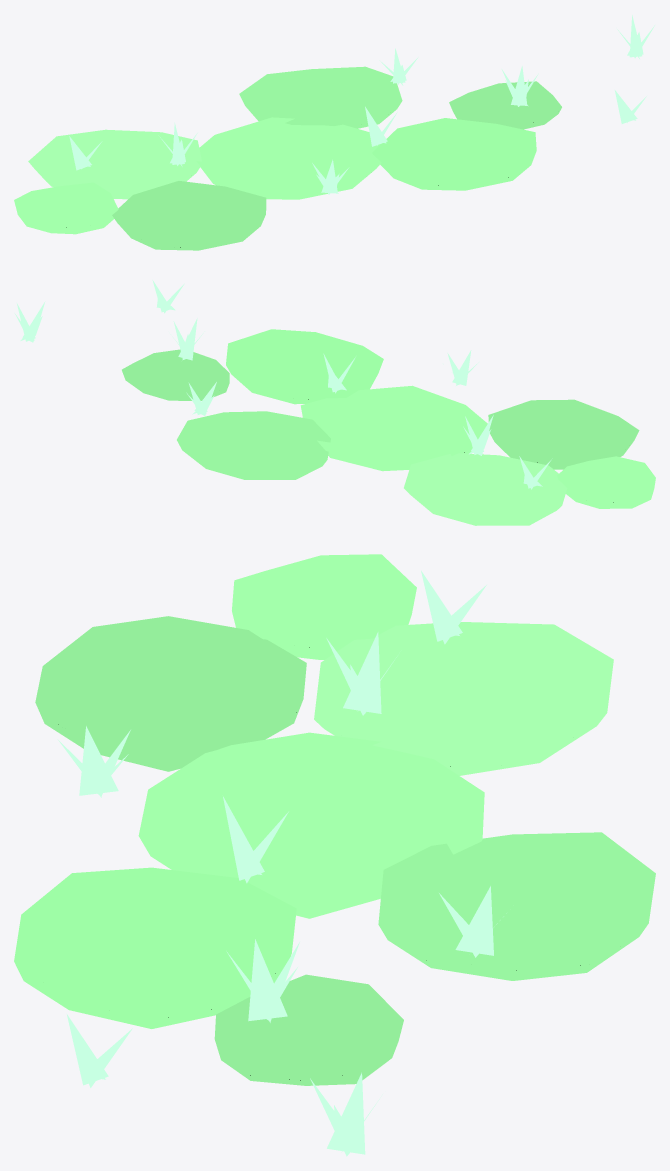
Rendered from terrain_resource_grove.gltf.
The picture shows the model from 3 angles, top to bottom: view 1: azimuth 30°, elevation 25°; view 2: azimuth 150°, elevation 25°; view 3: azimuth 270°, elevation 25°; orthographic projection. The views are drawn at different scales.
Visible parts, largest first — view 1: terrain_resource_grove; view 2: terrain_resource_grove; view 3: terrain_resource_grove.
Boxes of the visible parts, <box> form: terrain_resource_grove: <box>14,15,654,250</box>; terrain_resource_grove: <box>14,280,655,525</box>; terrain_resource_grove: <box>14,554,655,1156</box>.
Size of the model in its own units: 4.37 by 0.3176 by 1.92.
